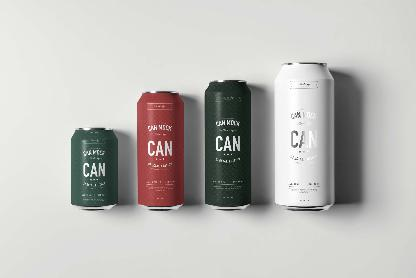Can: (270, 60, 338, 216), (205, 80, 251, 210), (137, 91, 183, 211), (70, 128, 118, 210)
